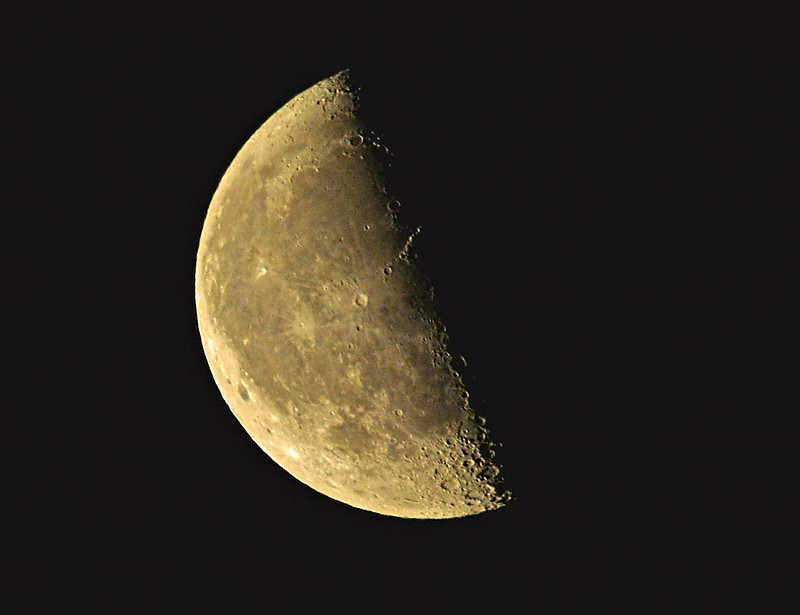crater: (267, 295, 326, 348), (327, 276, 384, 317), (268, 429, 316, 474), (435, 348, 472, 392), (332, 125, 370, 167), (380, 192, 408, 221), (388, 402, 416, 423), (252, 259, 275, 279), (334, 226, 353, 247), (225, 229, 245, 247), (358, 219, 375, 237), (456, 388, 476, 402), (224, 372, 236, 389)
